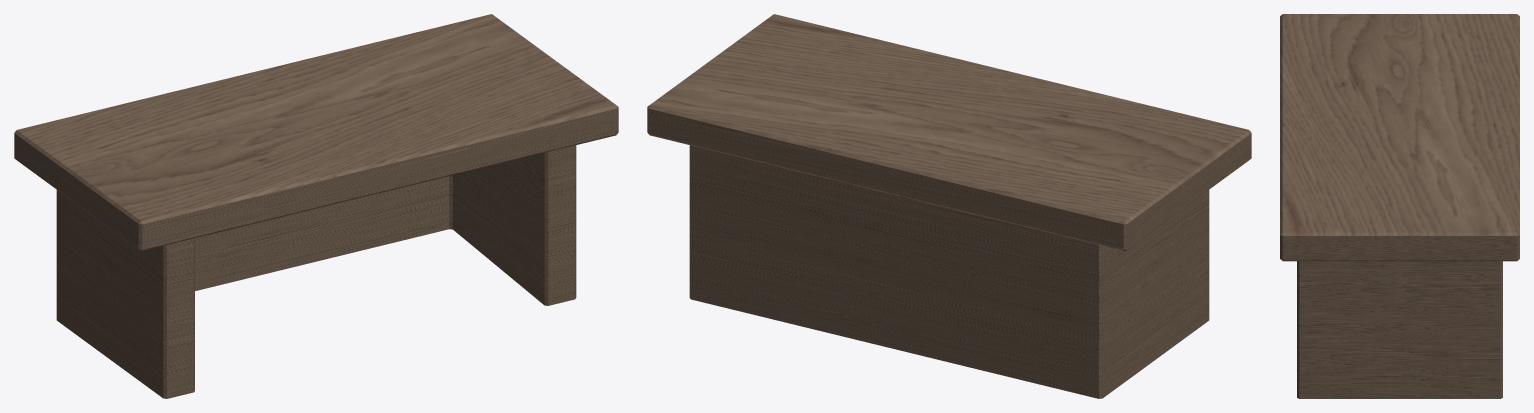
The model's file is SM_SmallTable.glb.
The picture shows the model from 3 angles, left to right: view 1: azimuth 30°, elevation 25°; view 2: azimuth 150°, elevation 25°; view 3: azimuth 270°, elevation 25°; orthographic projection. The views are drawn at different scales.
Parts seen in each view (by area): view 1: BossTable; view 2: BossTable; view 3: BossTable.
Part boxes in pixels (bbox=[...]): BossTable: bbox=[14, 14, 618, 398]; BossTable: bbox=[647, 14, 1251, 398]; BossTable: bbox=[1280, 14, 1519, 398].
Bounding box in the file's own units: 0.1739 × 0.0664 × 0.0798.
Materials: 1 (1 with a texture image).
